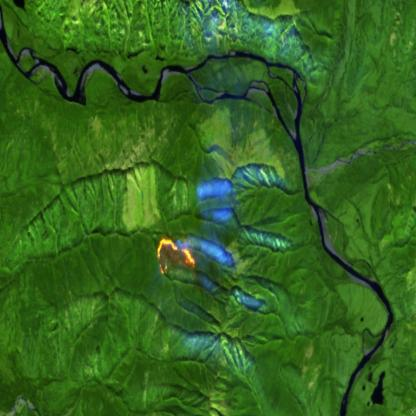fire: (156, 235, 196, 278)
